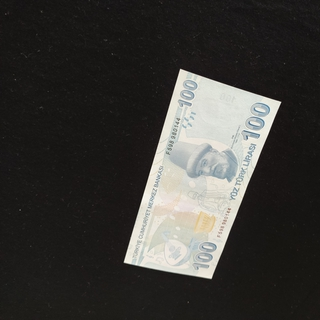100TLBack: (122, 68, 282, 281)
